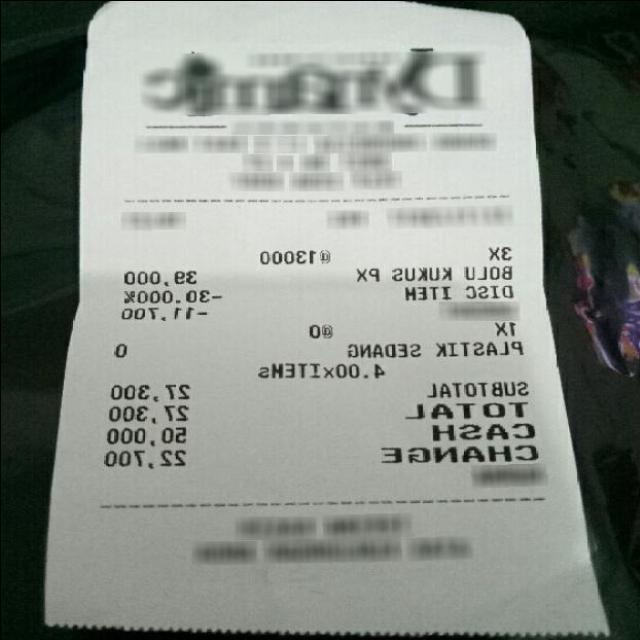kertas: (43, 0, 624, 639)
